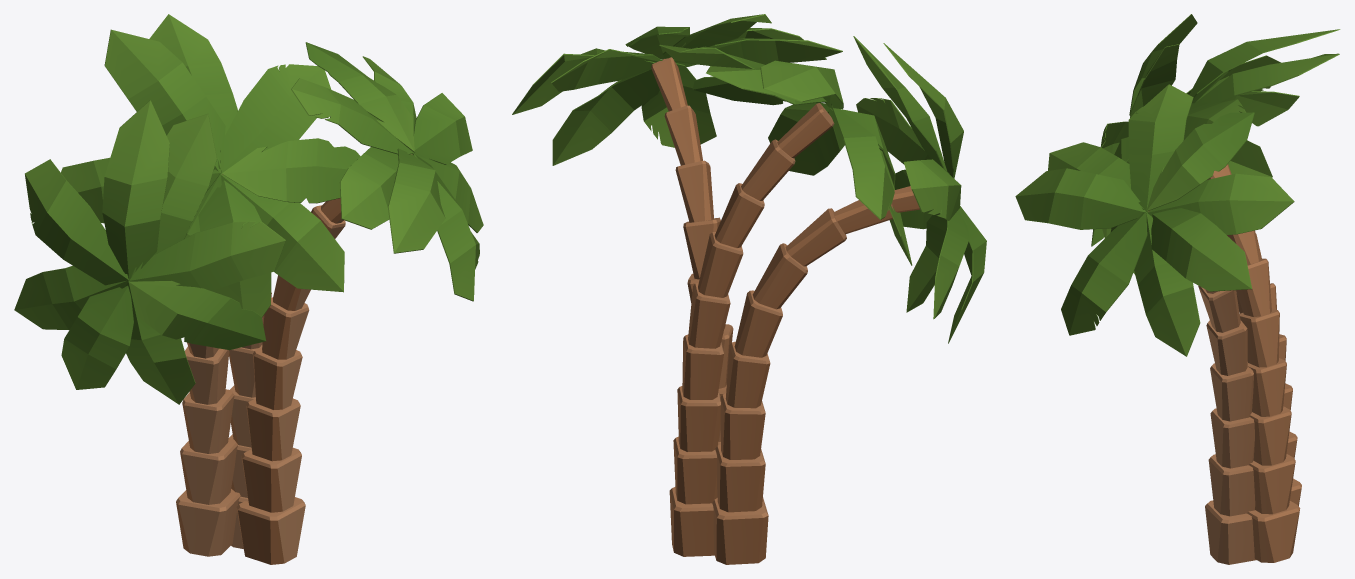
The model's file is 3Stad.fbx.
3 renders of one model, left to right at view 1: azimuth 30°, elevation 25°; view 2: azimuth 150°, elevation 25°; view 3: azimuth 270°, elevation 25°, orthographic. The views are drawn at different scales.
Visible parts, largest first — view 1: Cube.012; view 2: Cube.012; view 3: Cube.012.
Part boxes in pixels (bbox=[...]): Cube.012: bbox=[14, 14, 483, 564]; Cube.012: bbox=[512, 14, 986, 564]; Cube.012: bbox=[1015, 14, 1340, 564].
Size of the model in its own units: 205 by 233 by 143.
